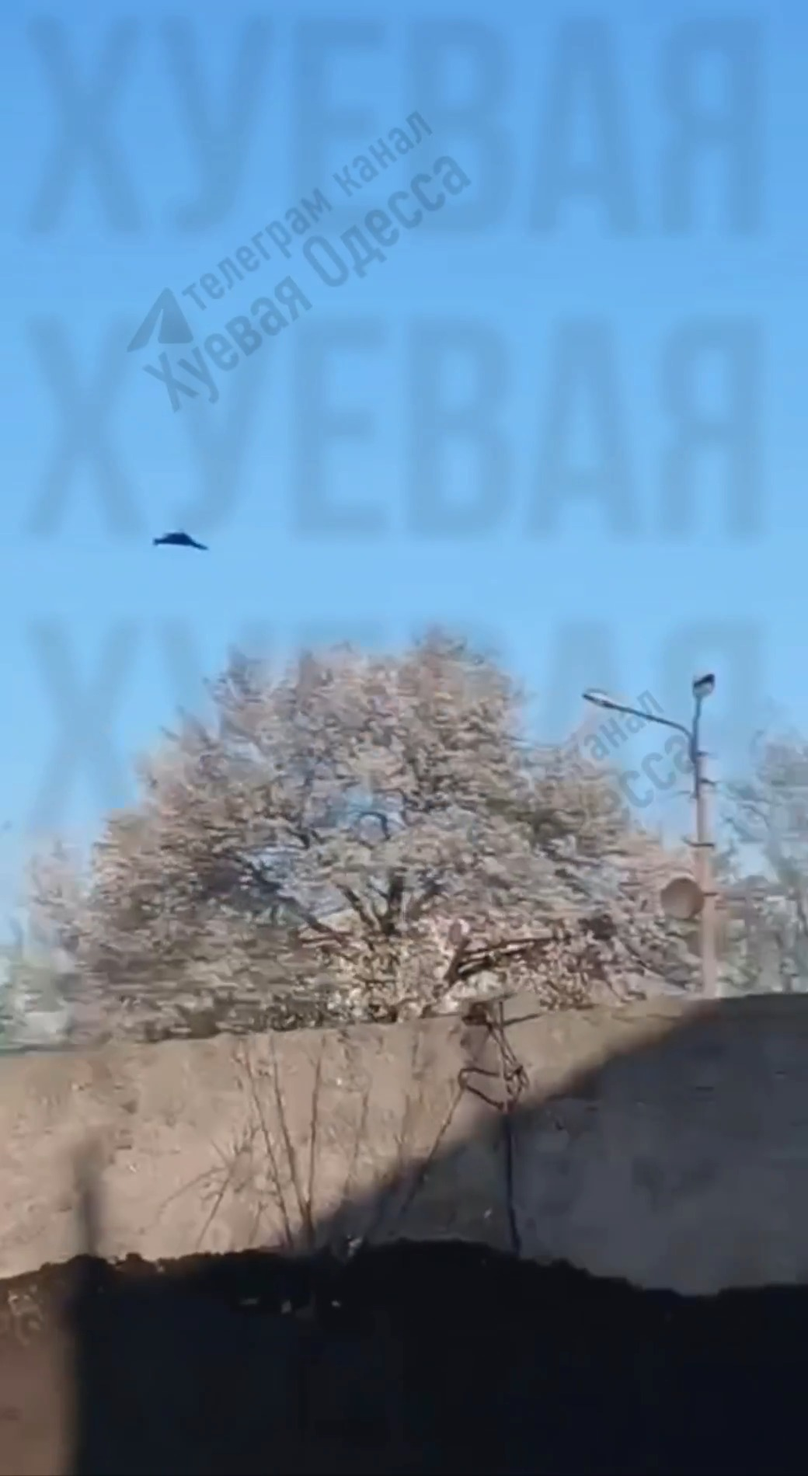shahed: (141, 522, 219, 554)
